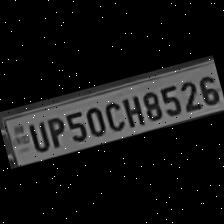0: (81, 102, 108, 140)
2: (176, 76, 202, 113)
5: (155, 80, 184, 118), (62, 107, 90, 145)
6: (194, 72, 221, 108)
8: (137, 86, 164, 124)
C: (98, 97, 125, 135)
H: (118, 92, 145, 130)
P: (41, 112, 68, 150)
U: (23, 118, 50, 155)
